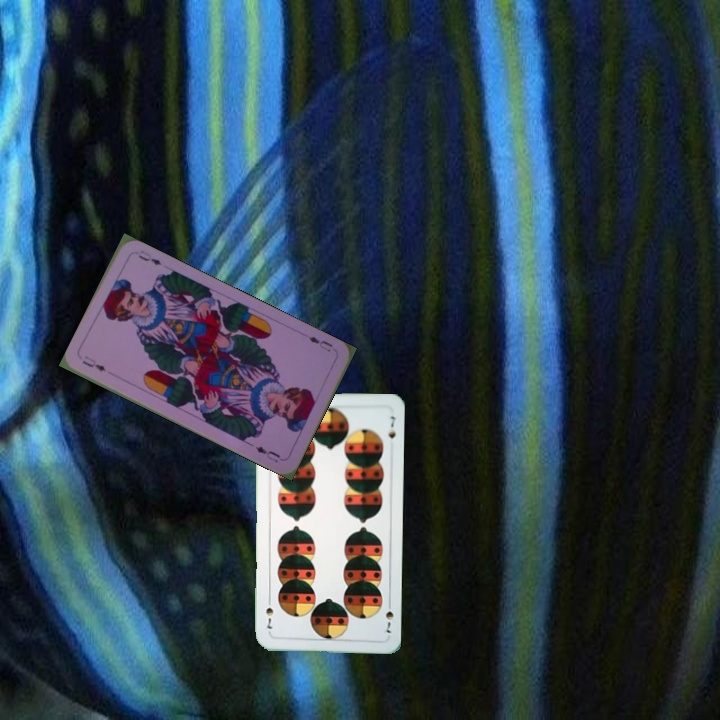EU: (304, 332, 335, 355), (78, 352, 108, 374)
S7: (382, 597, 396, 636)
